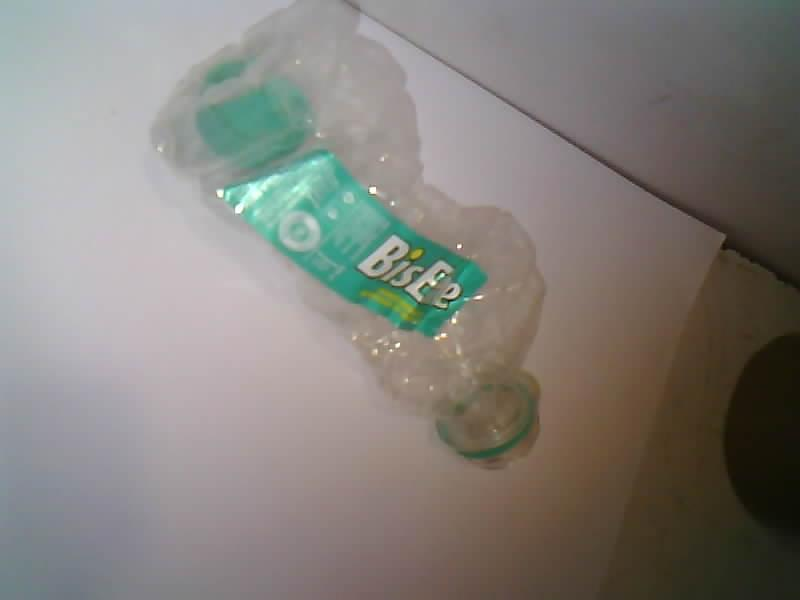non-biodegradable: (152, 0, 543, 467)
